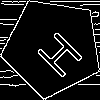H: (27, 22, 86, 81)
